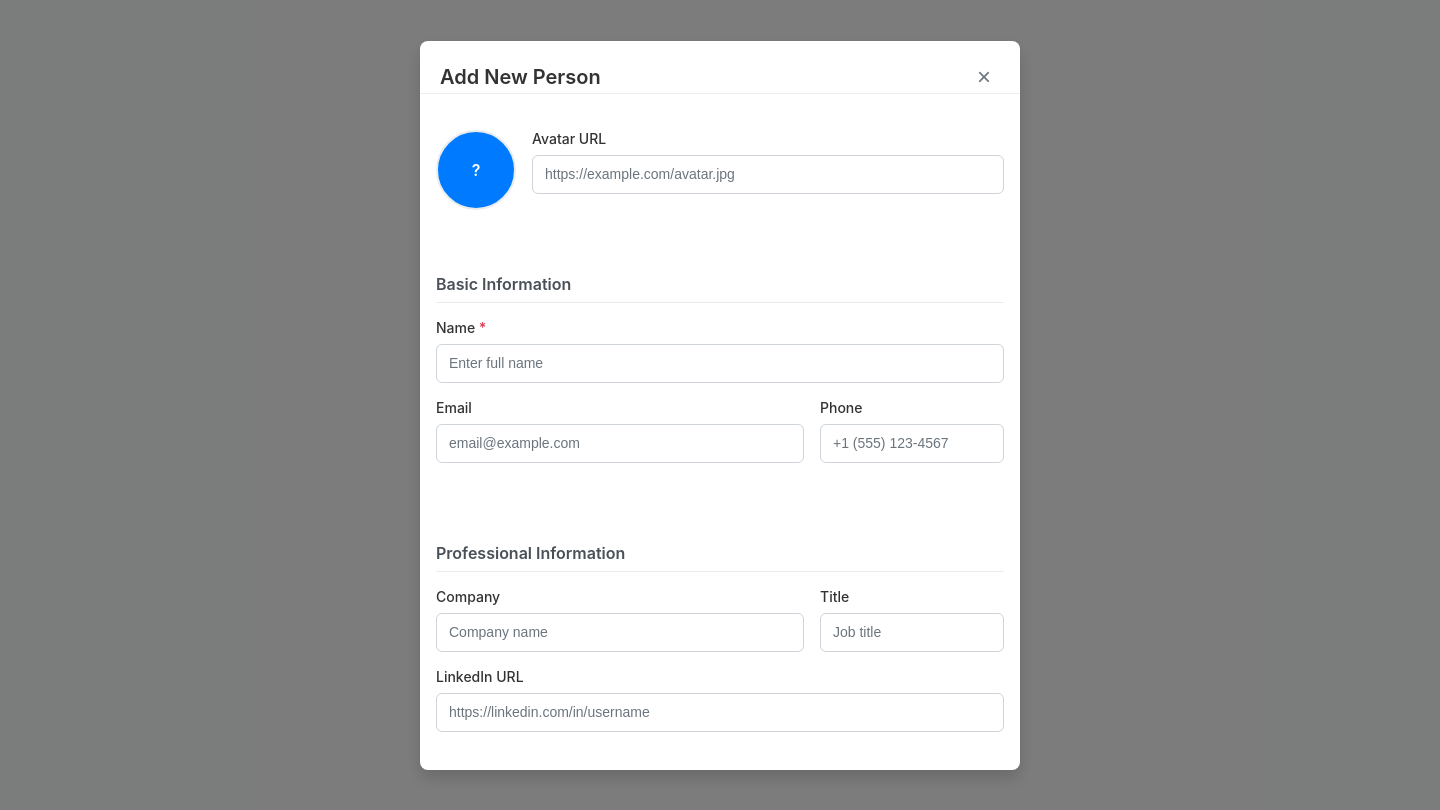
Test: PersonForm › displays avatar initials correctly
In the field with placeholder "Enter full name": (720, 363) x1=436 y1=344 x2=1004 y2=382, type "John Smith"
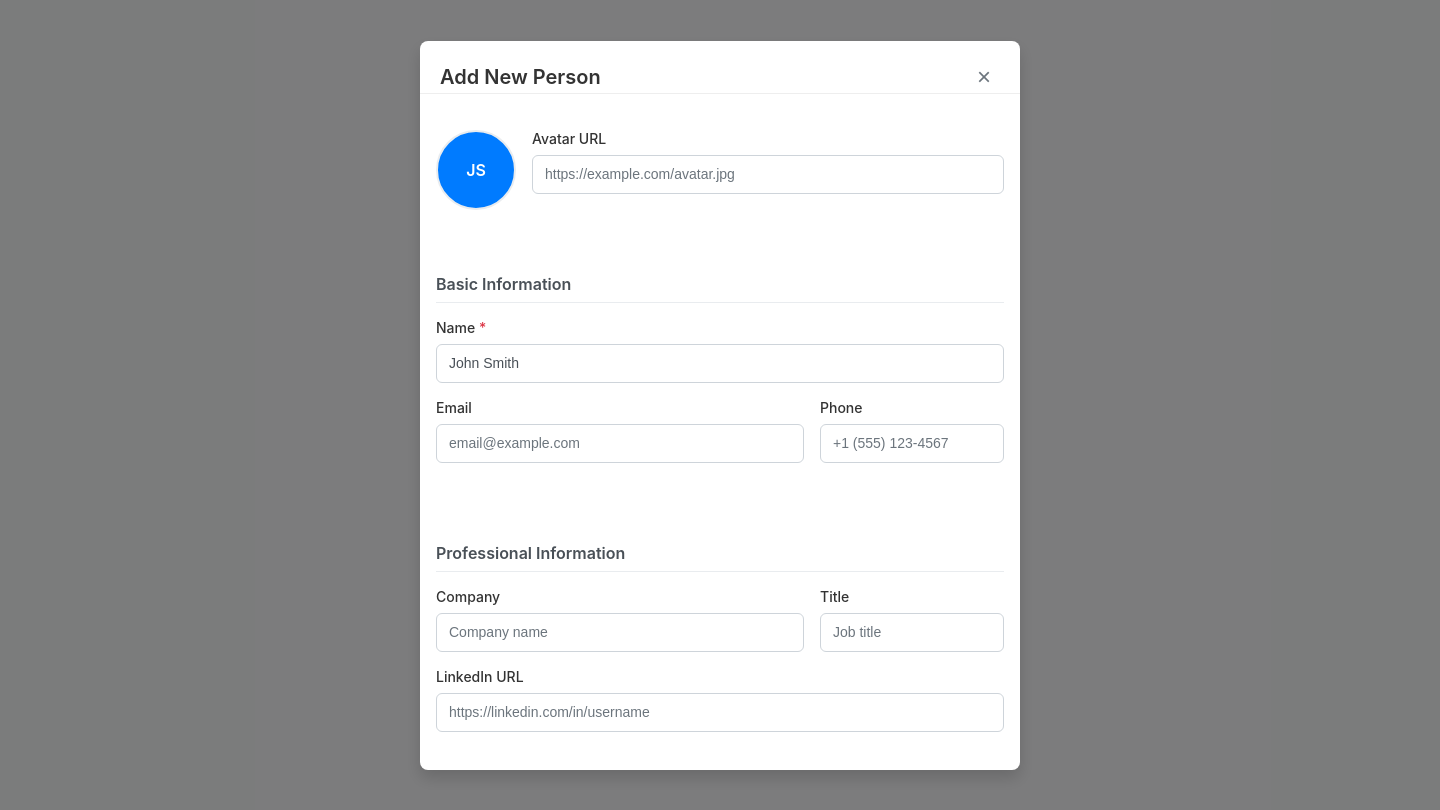
Expected: the text "JS" is shown, x1=436 y1=130 x2=516 y2=210
